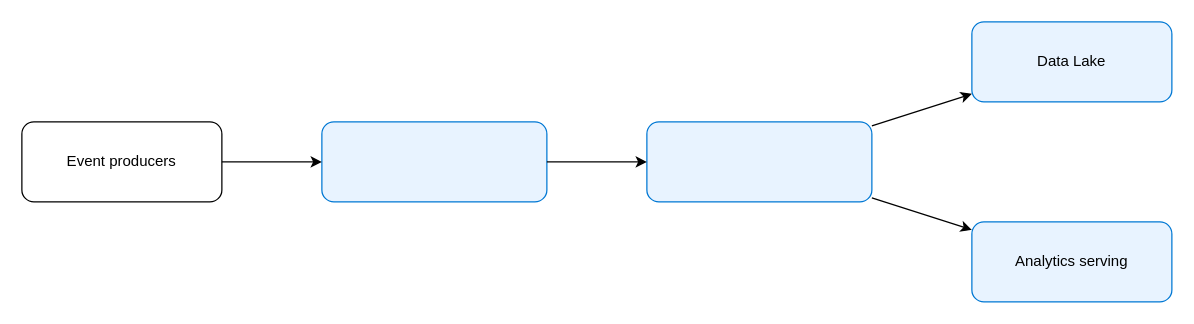
Image size: 1194x324. Some labels were removed from this diagram. The box of each missing label's shape, as (x1, y1, x2, y2) in pixels:
Azure Event Hubs: (321, 121, 547, 202)
Stream processing: (646, 121, 872, 202)
